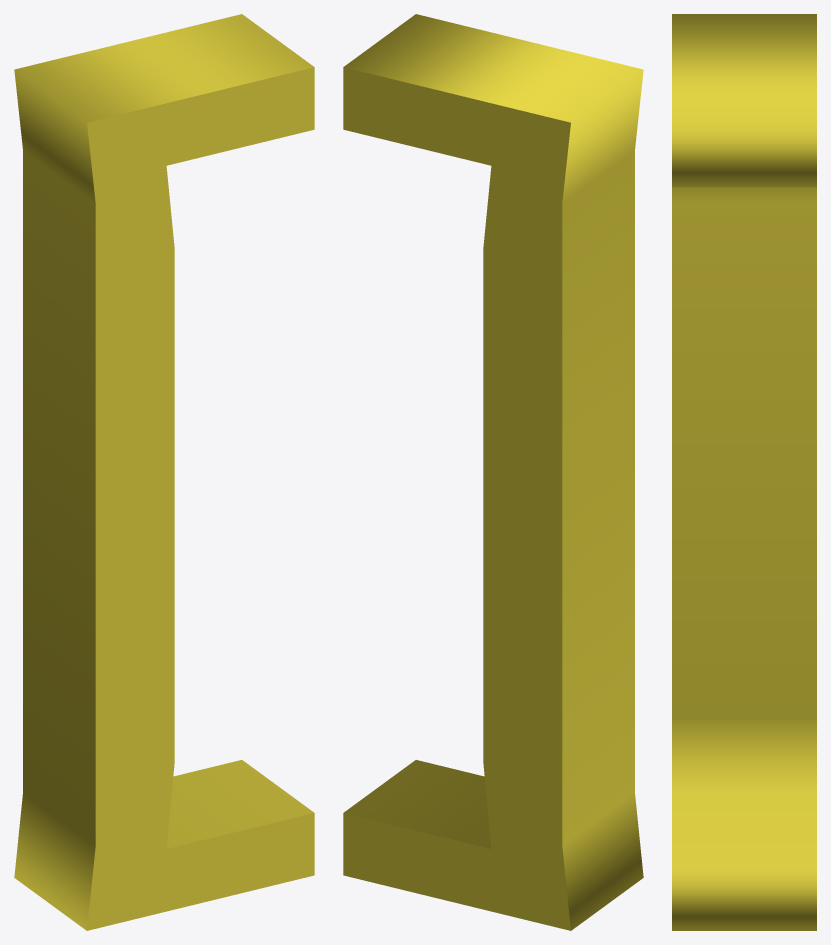
The model's file is square.glb.
The picture shows the model from 3 angles, left to right: view 1: azimuth 30°, elevation 25°; view 2: azimuth 150°, elevation 25°; view 3: azimuth 270°, elevation 25°; orthographic projection.
Parts seen in each view (by area): view 1: Text; view 2: Text; view 3: Text.
Part boxes in pixels (left/top/right/bottom): Text: left=14, top=14, right=314, bottom=930; Text: left=343, top=14, right=643, bottom=930; Text: left=672, top=14, right=816, bottom=930.
Size of the model in its own units: 0.2172 by 0.7365 by 0.12.
